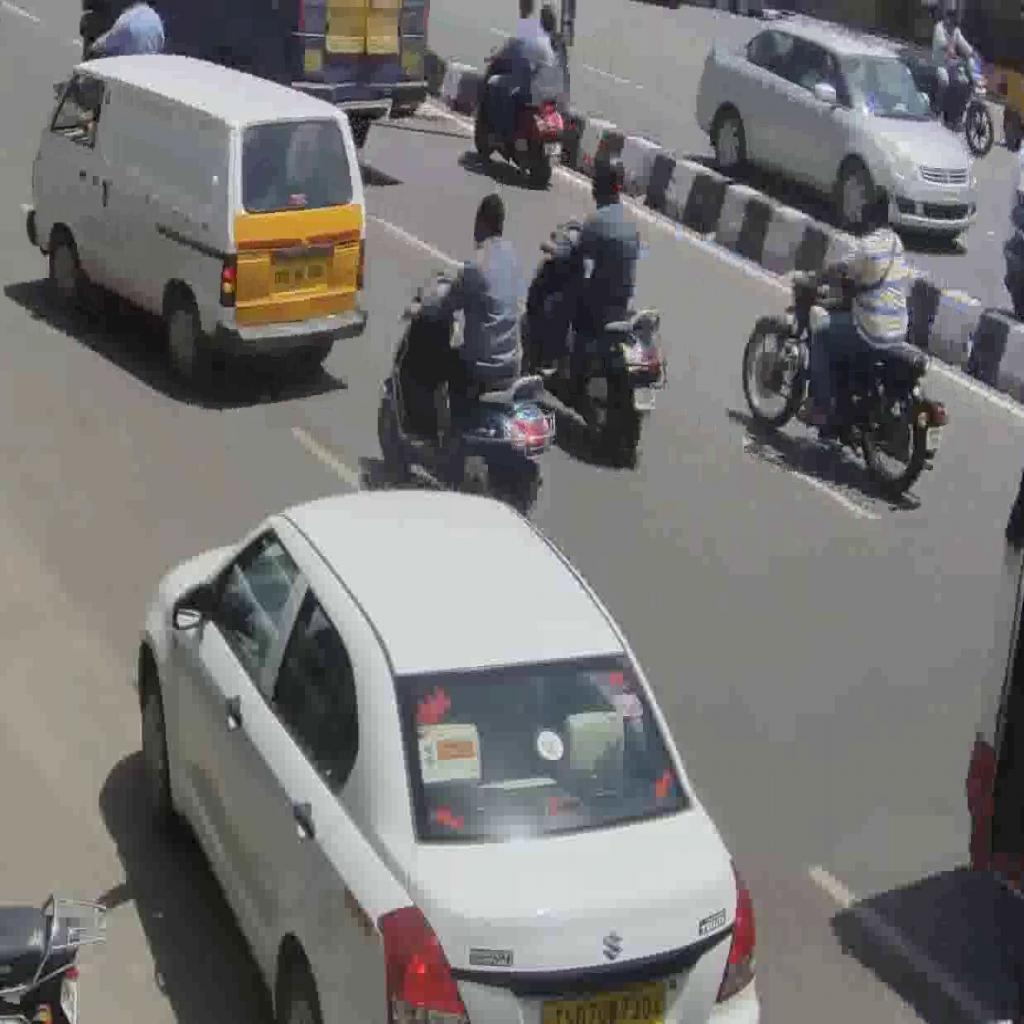helmet: (739, 268, 946, 496), (376, 276, 556, 527), (522, 217, 668, 468), (472, 46, 564, 184)
